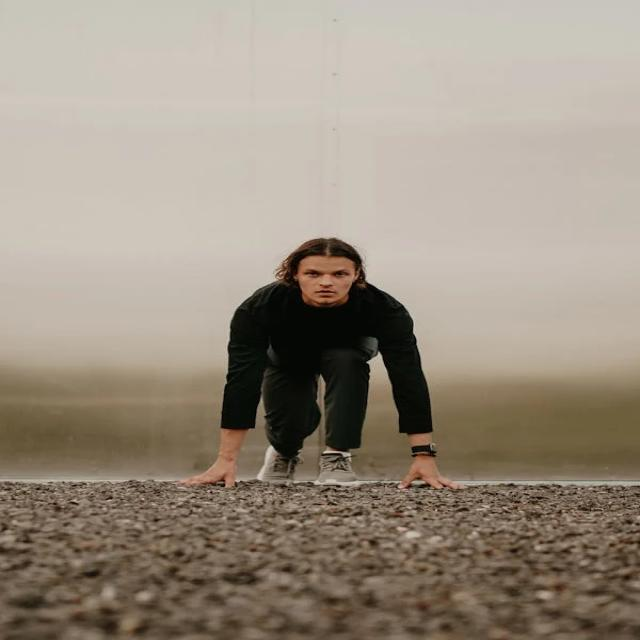Real human 2: (182, 233, 486, 503)
